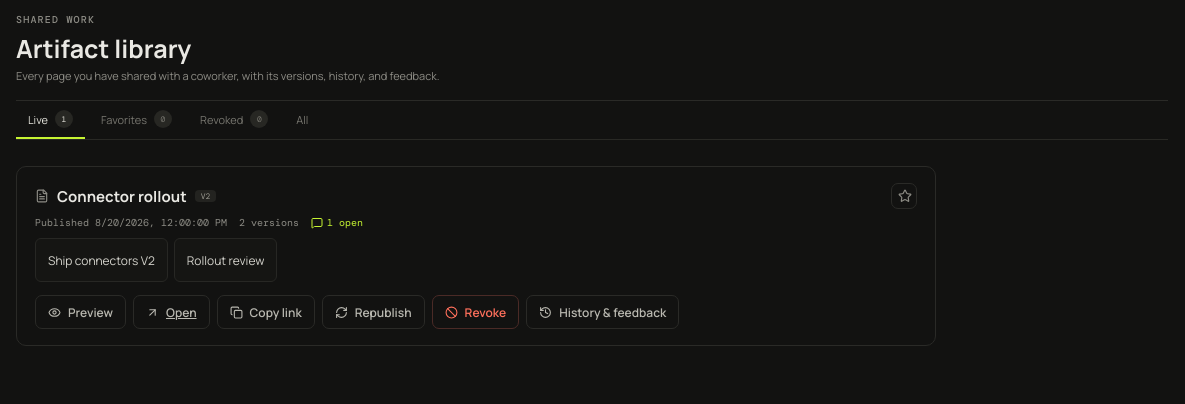
Test: artifact library requests › inline preview › renders markdown inline and keeps the external link
Click the button "Preview". click: (80, 312)
box: [35,295,126,329]
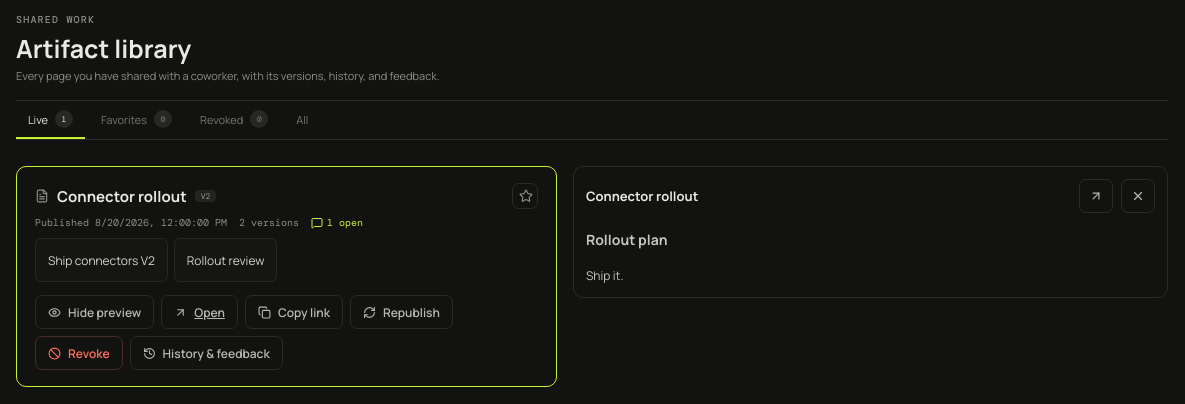
Now the heading "Rollout plan" is shown, box [586,230,668,249]
